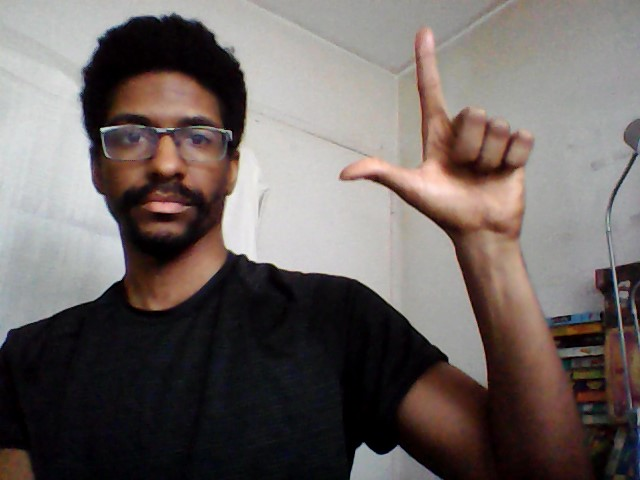l: (333, 23, 541, 244)
